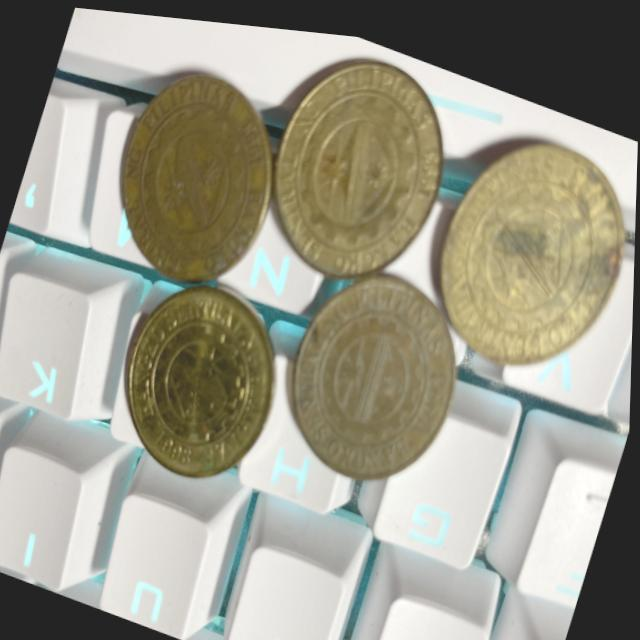25Cent_Old_Back: (419, 103, 638, 377), (259, 28, 471, 292), (97, 41, 293, 293), (284, 259, 474, 490), (118, 272, 292, 485)
